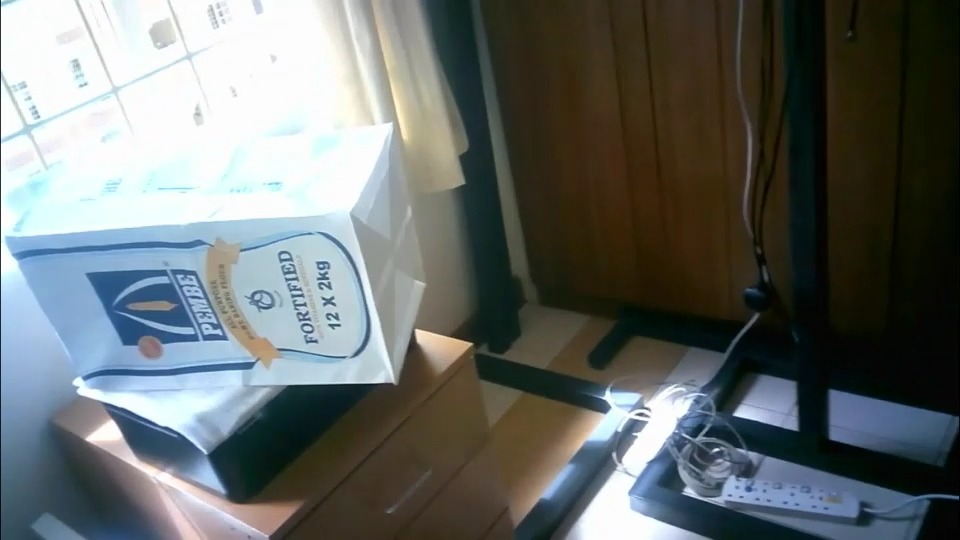wheat_flour_blue_label: (5, 123, 427, 381)
